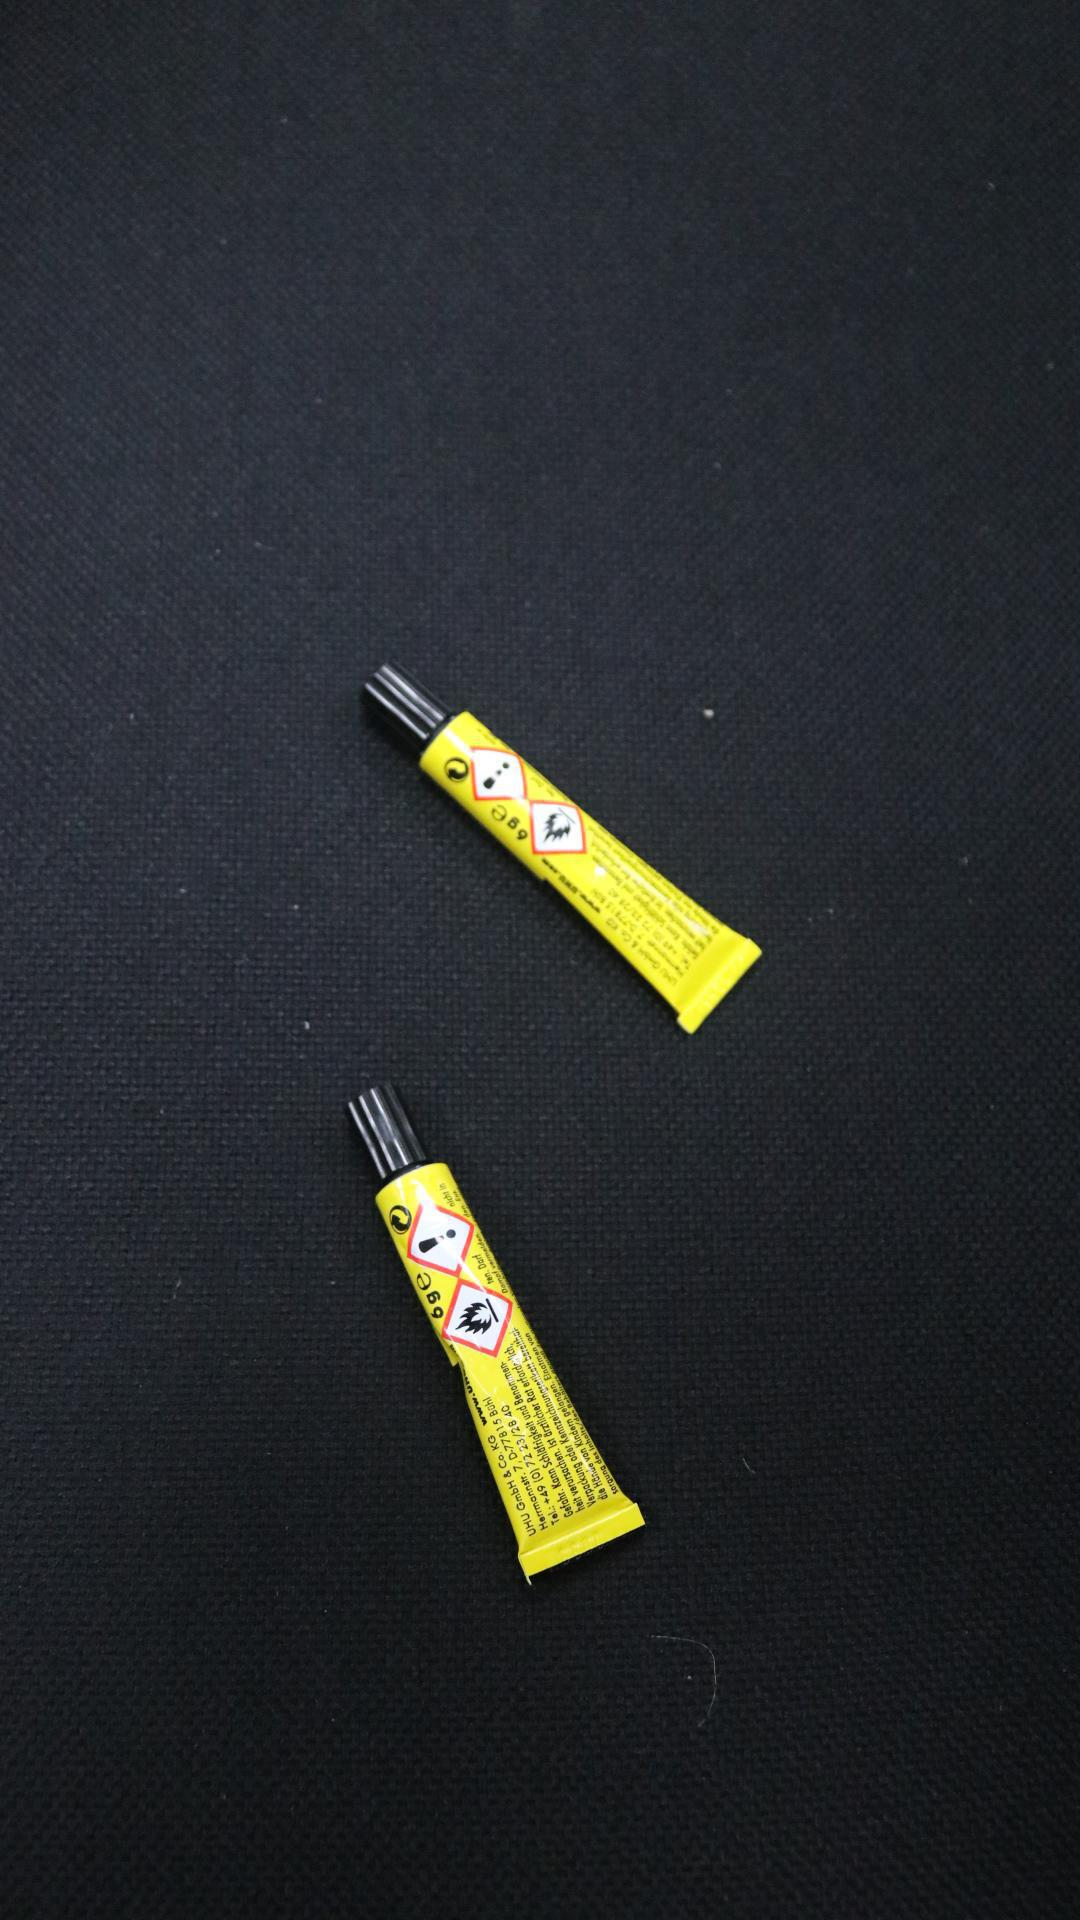Head: (379, 1128, 390, 1138), (402, 697, 411, 707)
Tail: (574, 1537, 587, 1550), (712, 982, 724, 994)
Tube: (359, 662, 764, 1035), (345, 1080, 645, 1583)
